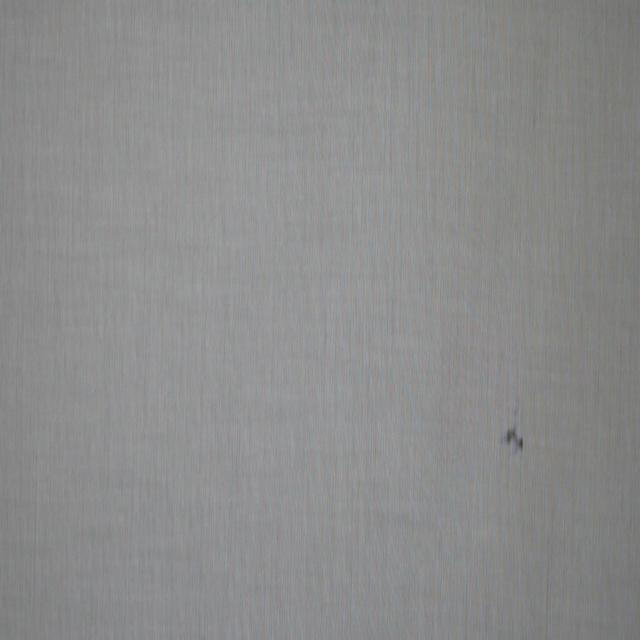dirty: (498, 426, 524, 458)
